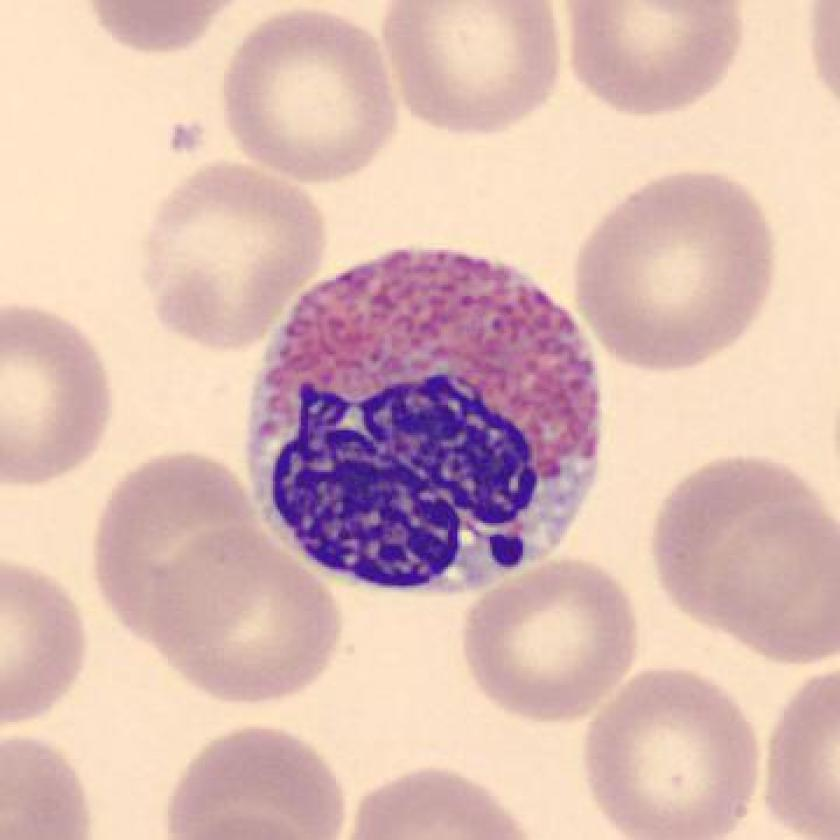eosinophil: (230, 237, 617, 617)
